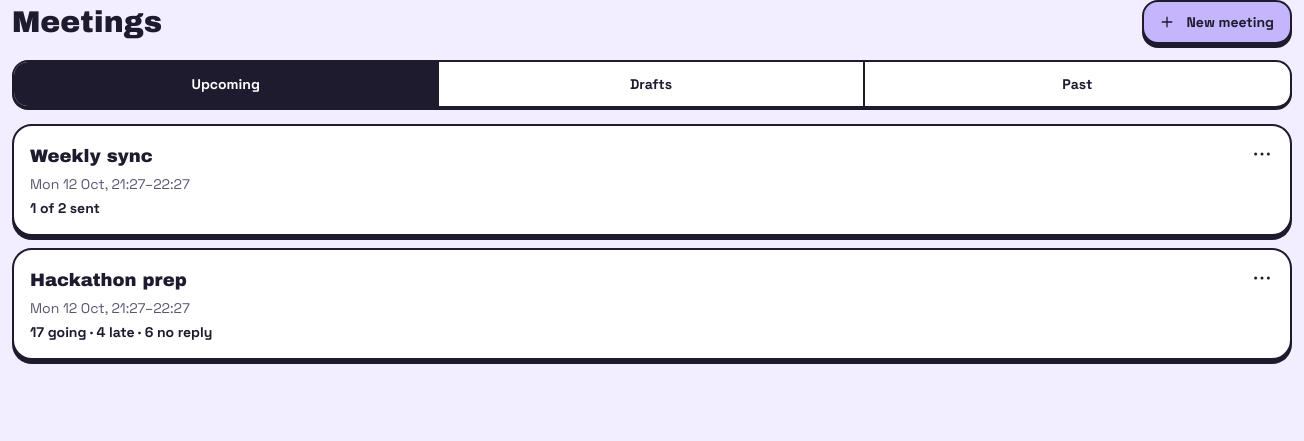
it: MeetingsList › labels a cancelled meeting instead of its answers, in Past (M6)
Expected: the link "Weekly sync Mon 12 Oct, 21:27–22:27 1 of 2 sent" is shown, [12,124,1292,236]
Click the radio button labelled "Past".
click(1077, 84)  # box [865,62,1290,106]
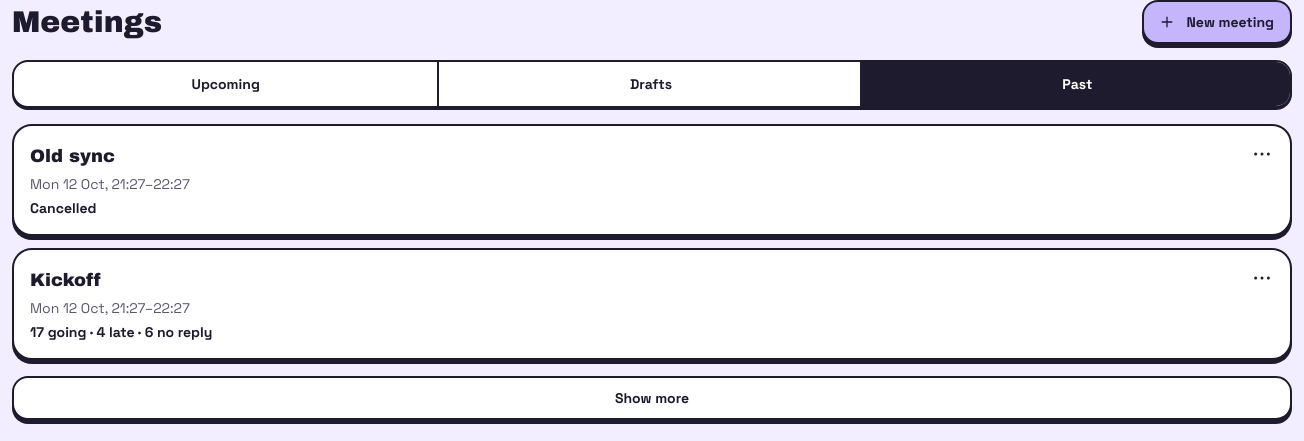
Result: the text "Cancelled" is shown at [30,199,96,217]
